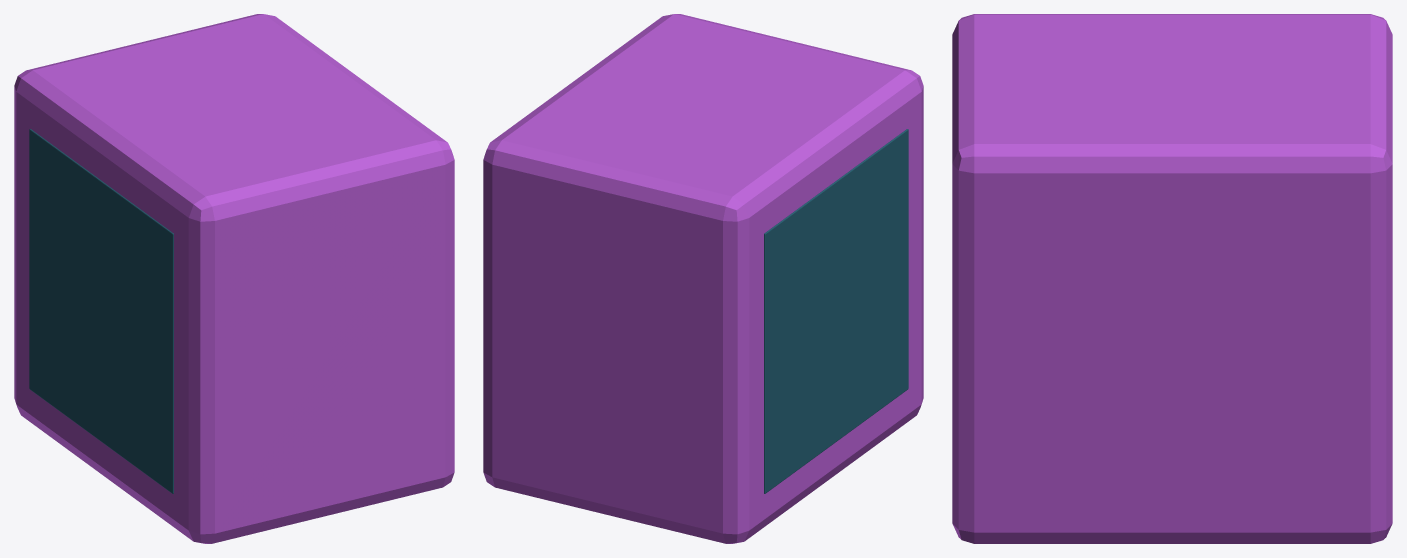
The model's file is wavefront_sensor.glb.
The picture shows the model from 3 angles, left to right: view 1: azimuth 30°, elevation 25°; view 2: azimuth 150°, elevation 25°; view 3: azimuth 270°, elevation 25°; orthographic projection. The views are drawn at different scales.
Visible parts, largest first — view 1: wavefront_sensor; view 2: wavefront_sensor; view 3: wavefront_sensor.
Boxes of the visible parts, x1,y1,x2,y2 form: wavefront_sensor: (14, 14, 454, 543); wavefront_sensor: (483, 14, 923, 543); wavefront_sensor: (952, 14, 1392, 543).
Bounding box in the file's own units: 32 × 40 × 40.
